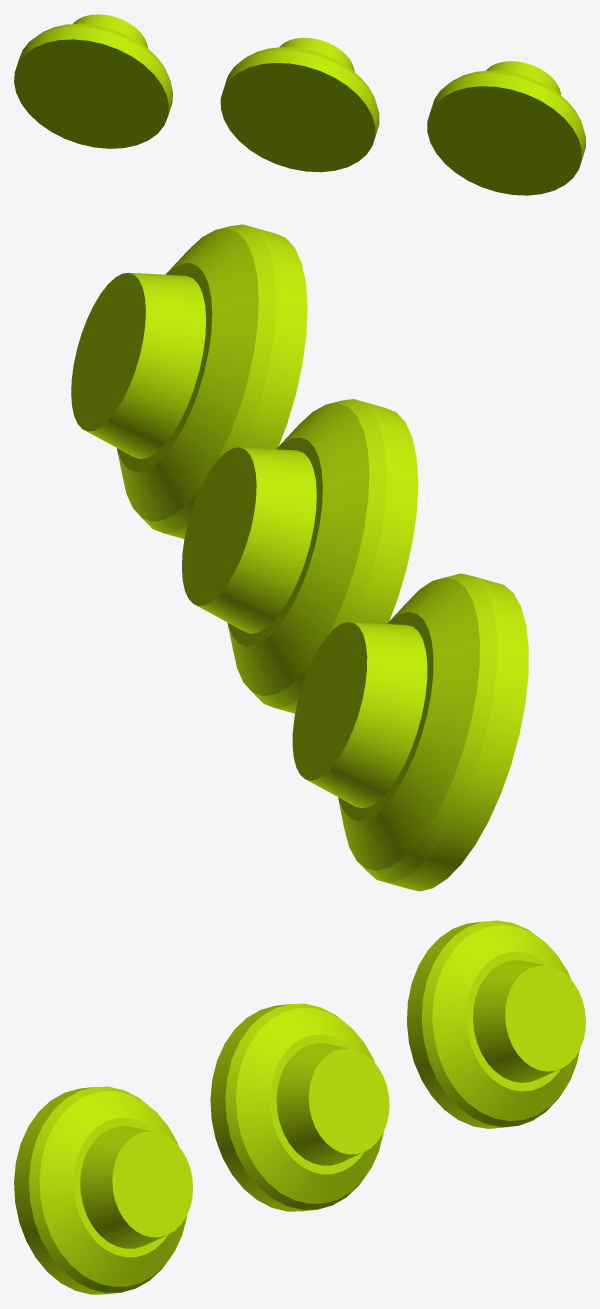
Rendered from DialesSOlo.fbx.
3 renders of one model, top to bottom at view 1: azimuth 30°, elevation 25°; view 2: azimuth 150°, elevation 25°; view 3: azimuth 270°, elevation 25°, orthographic. The views are drawn at different scales.
Parts seen in each view (by area): view 1: DialTwo_Mk4, DialOne_Mk4, DialThree_Mk4; view 2: DialOne_Mk4, DialThree_Mk4, DialTwo_Mk4; view 3: DialTwo_Mk4, DialThree_Mk4, DialOne_Mk4.
Part boxes in pixels (left/top/right/bottom): DialTwo_Mk4: left=220, top=37, right=379, bottom=172; DialOne_Mk4: left=14, top=14, right=172, bottom=148; DialThree_Mk4: left=427, top=61, right=585, bottom=195; DialOne_Mk4: left=292, top=573, right=528, bottom=891; DialThree_Mk4: left=71, top=224, right=307, bottom=538; DialTwo_Mk4: left=182, top=399, right=418, bottom=713; DialTwo_Mk4: left=210, top=1003, right=389, bottom=1211; DialThree_Mk4: left=14, top=1086, right=192, bottom=1294; DialOne_Mk4: left=407, top=920, right=585, bottom=1128.
Size of the model in its own units: 32.9 by 11.52 by 32.92.
